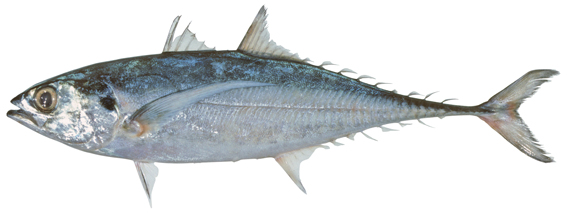fish: (8, 5, 560, 210)
